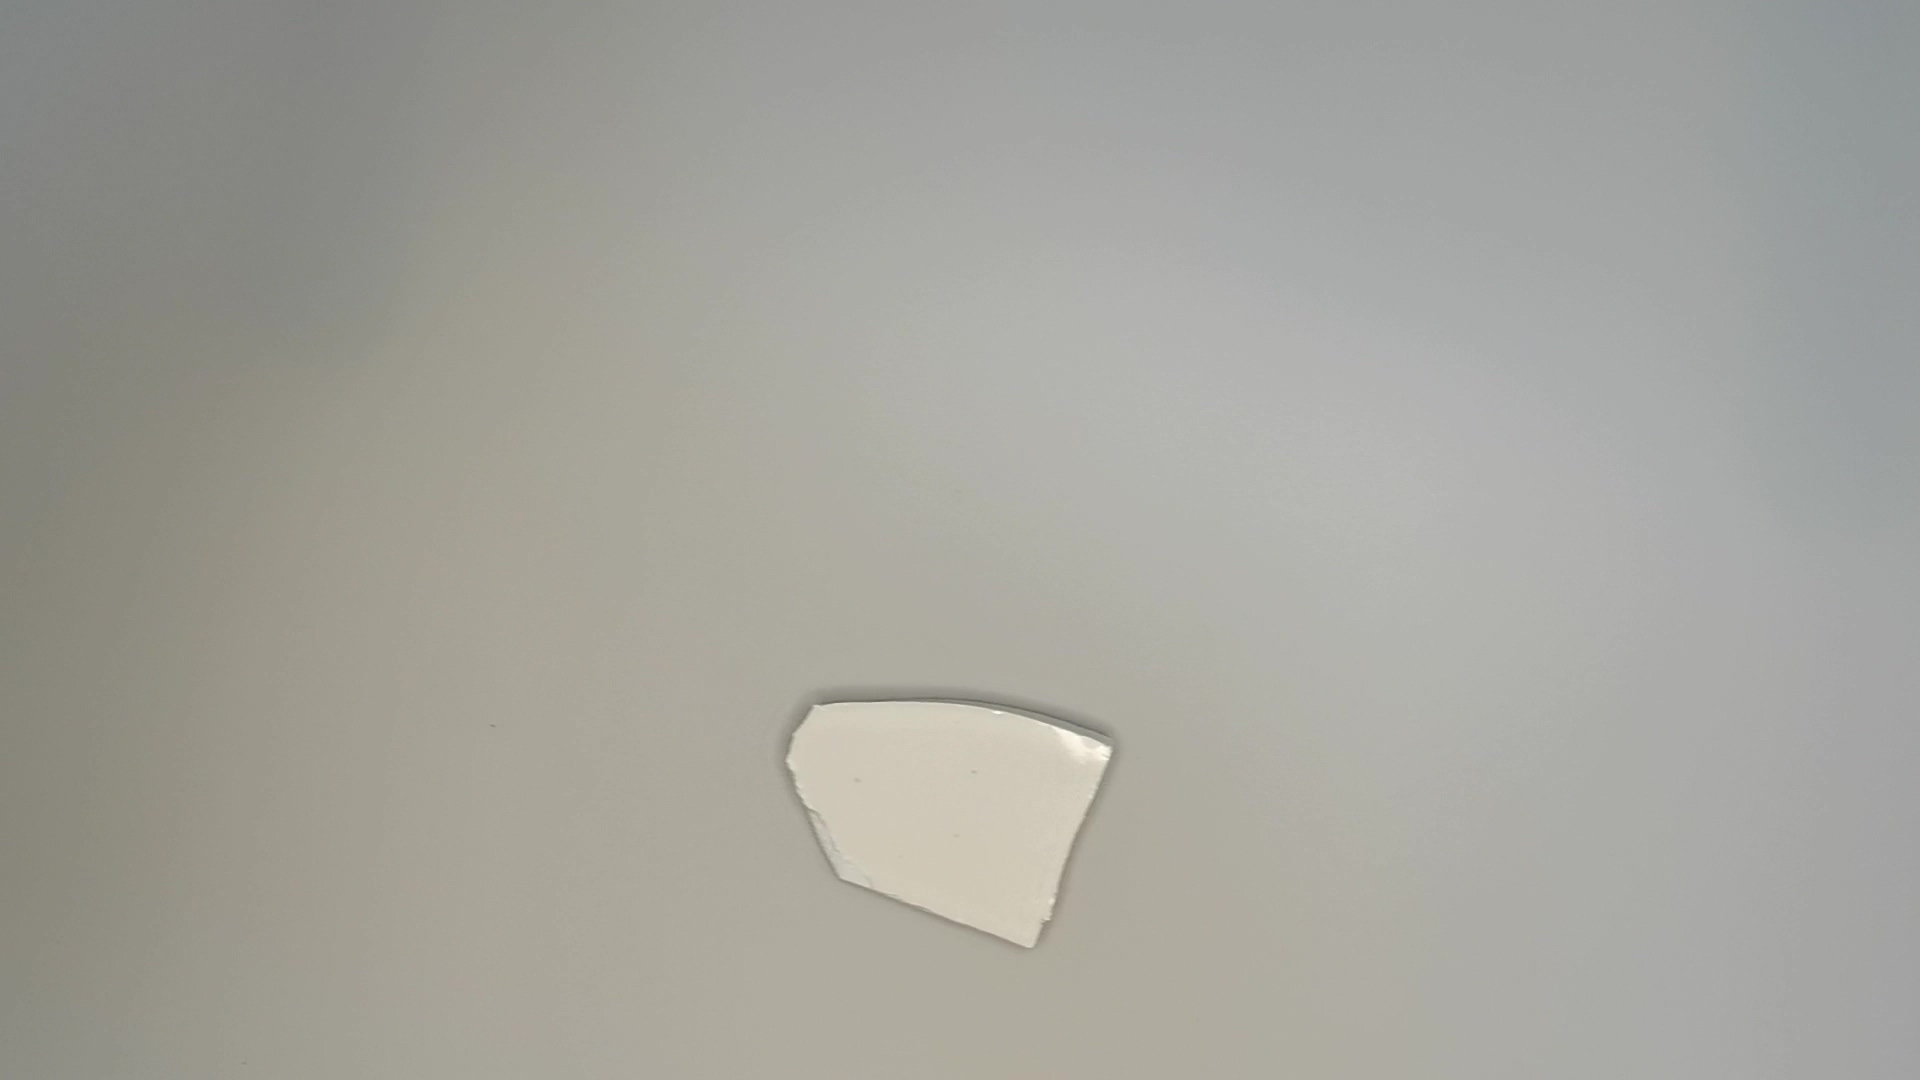ceramic: (791, 683, 1127, 953)
